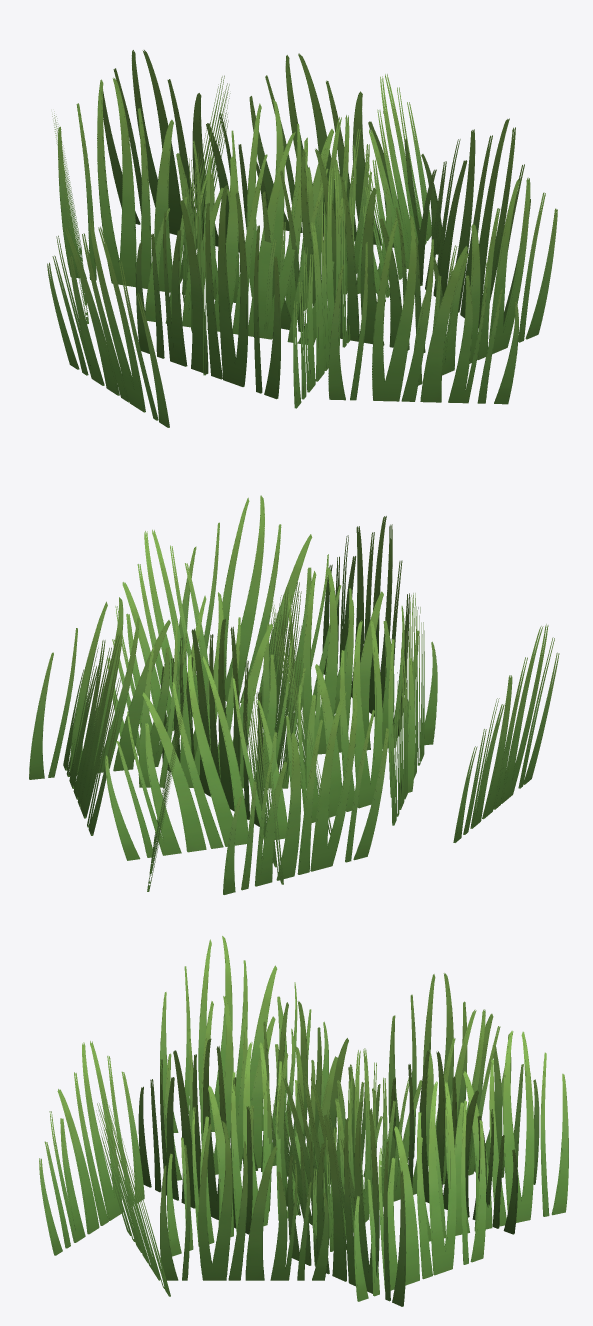
The model's file is TLGrassTest2.fbx.
3 renders of one model, top to bottom at view 1: azimuth 30°, elevation 25°; view 2: azimuth 150°, elevation 25°; view 3: azimuth 270°, elevation 25°, orthographic. The views are drawn at different scales.
Visible parts, largest first — view 1: Plane.009; view 2: Plane.009; view 3: Plane.009.
Boxes of the visible parts, x1=… form: Plane.009: x1=47, y1=50, x2=557, y2=427; Plane.009: x1=29, y1=495, x2=559, y2=894; Plane.009: x1=39, y1=936, x2=568, y2=1306.
Bounding box in the file's own units: 241 × 100 × 284.
Materials: 1 (1 with a texture image).
